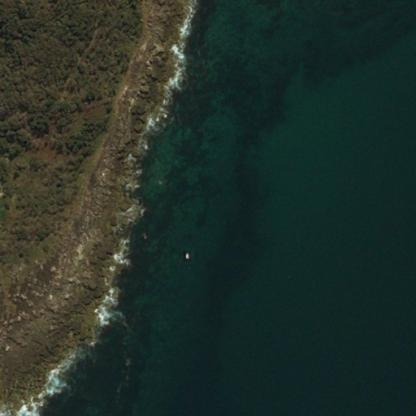ship: (180, 245, 194, 266)
